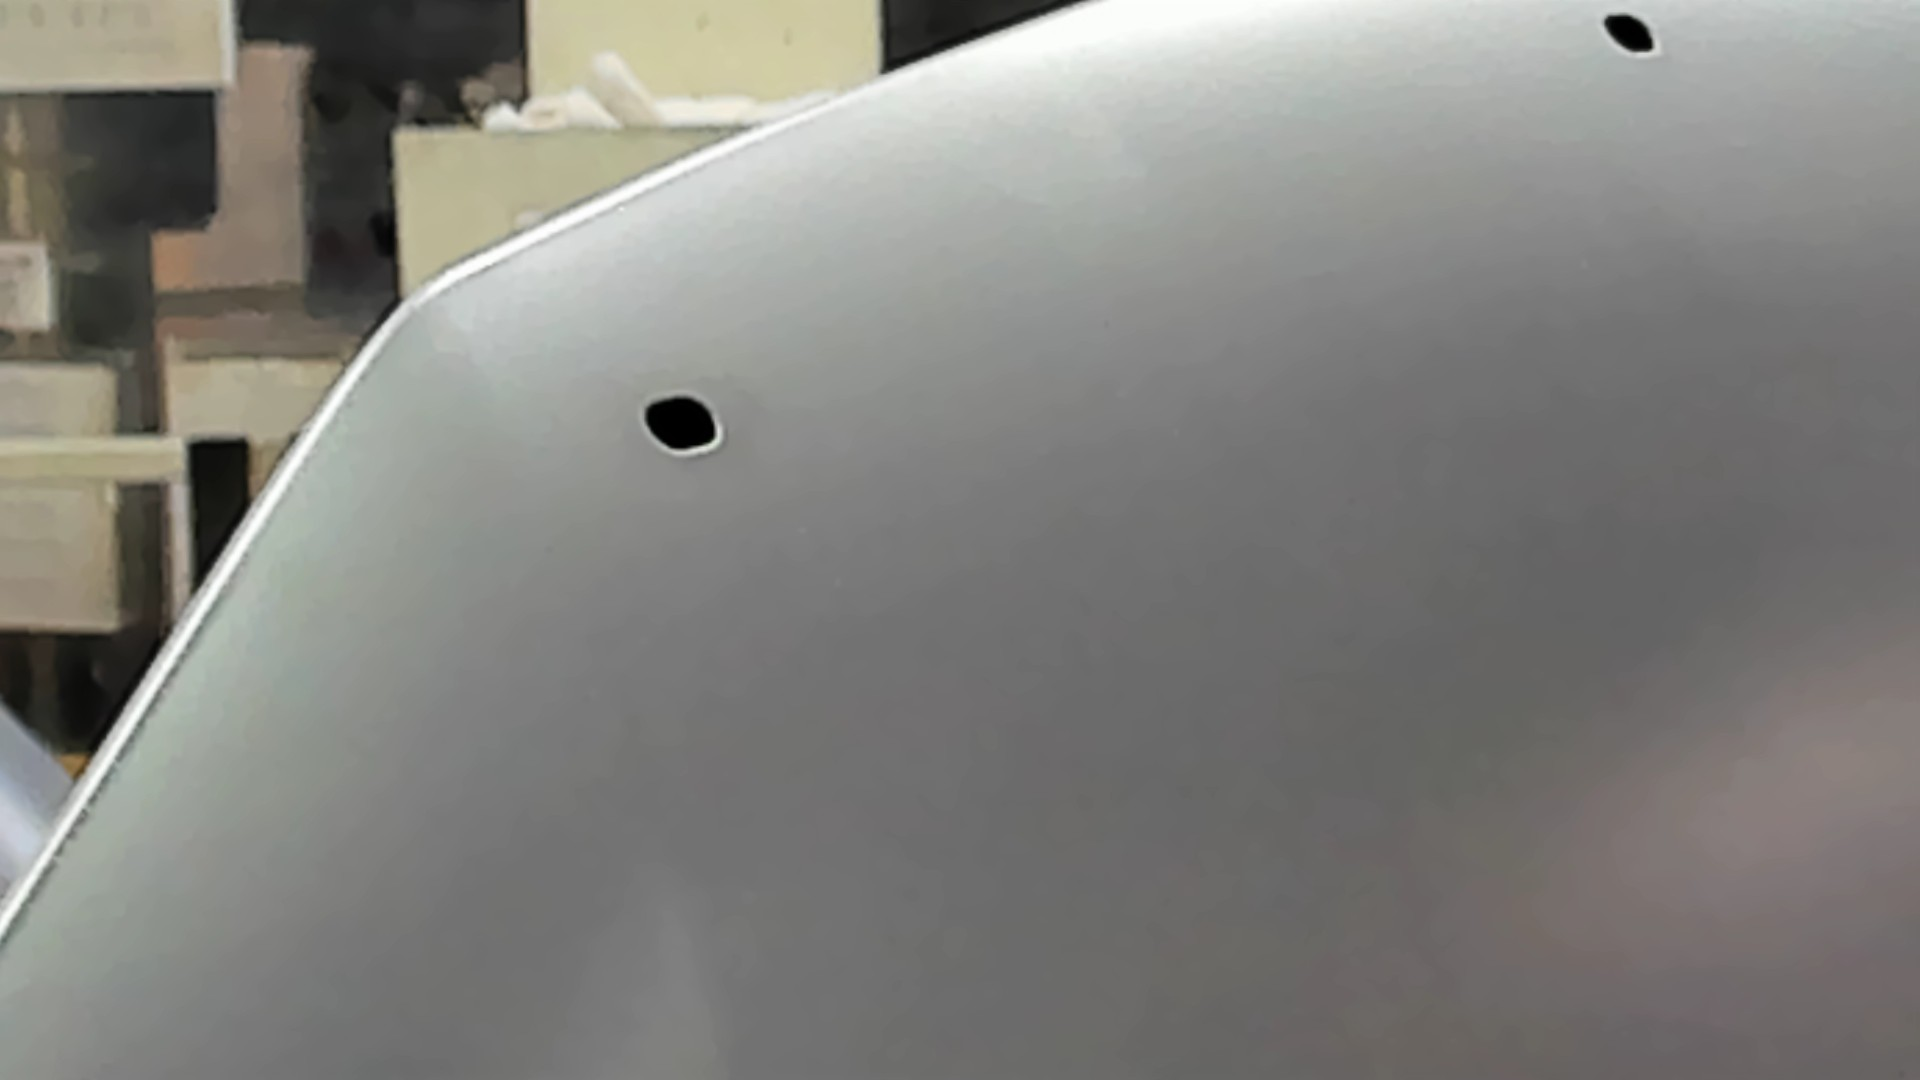amorfo: (641, 390, 727, 454), (1596, 11, 1665, 61)
